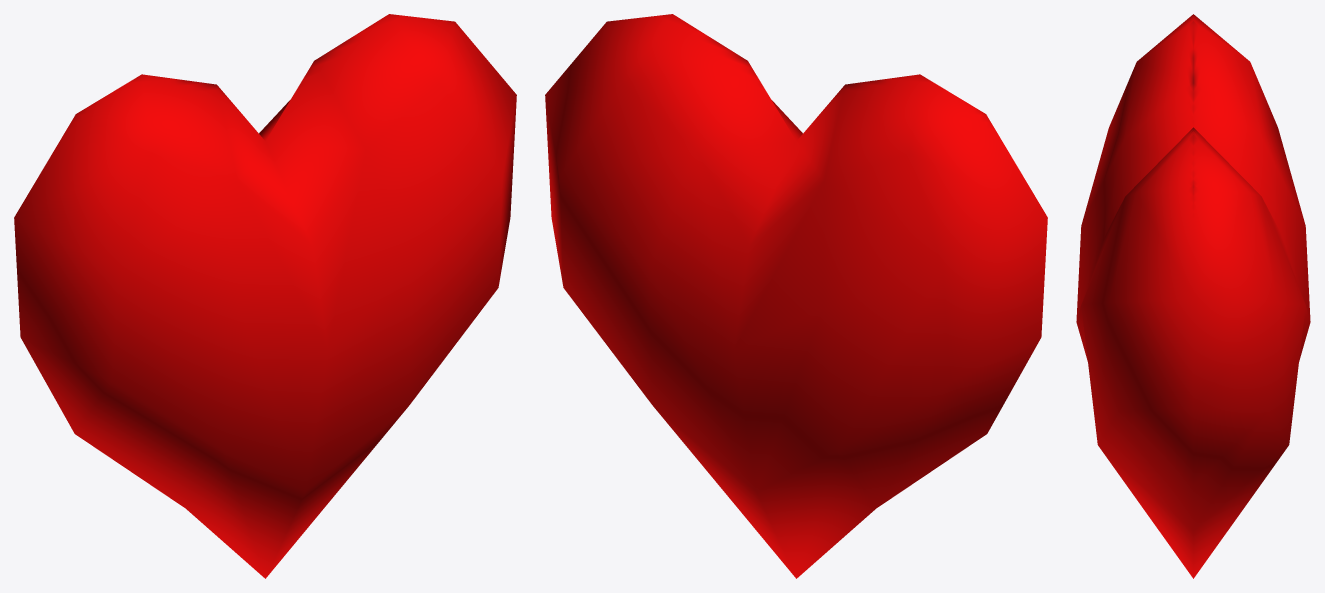
Rendered from Boost_double_life.FBX.
3 views of the same model, side by side, from view 1: azimuth 30°, elevation 25°; view 2: azimuth 150°, elevation 25°; view 3: azimuth 270°, elevation 25° (orthographic). The views are drawn at different scales.
Parts seen in each view (by area): view 1: Double life; view 2: Double life; view 3: Double life.
Part boxes in pixels (box(x1,y1,x2,y2)): Double life: box(14, 14, 516, 578); Double life: box(545, 14, 1047, 578); Double life: box(1076, 14, 1310, 578).
Size of the model in its own units: 6.23 by 6.34 by 2.69.
